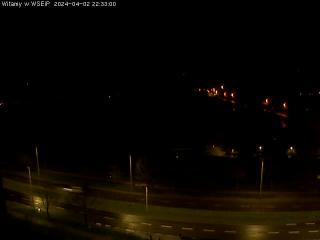car: (62, 184, 82, 192)
